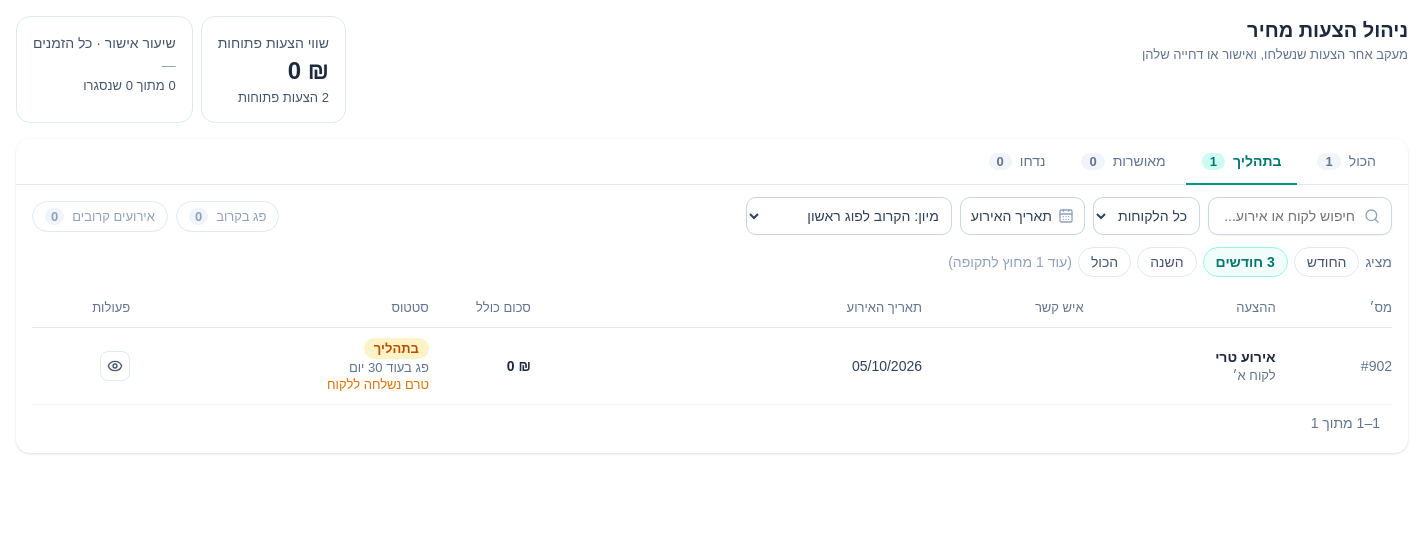
Test: חלון-זמן — ברירת-מחדל (90 יום) מול "הכול" › שורה ישנה מ-90 יום מוסתרת כברירת-מחדל, ו-"הכול" מחזיר אותה
Expected: the row with test id "quote-row-902" is shown, [32, 327, 1392, 404]
Expected: the text with test id "list-window-hidden" shows "1", [1036, 254, 1044, 270]
Click the button with test id "list-window-all": (1105, 262) [1078, 247, 1131, 277]
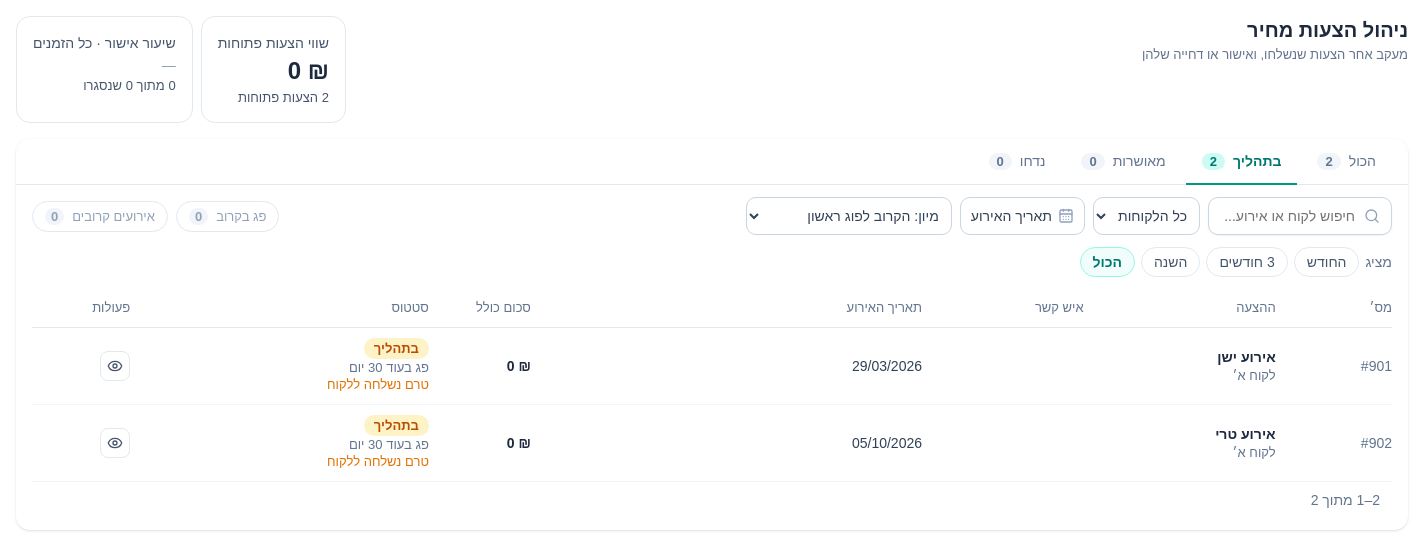
Expected: the row with test id "quote-row-902" is shown, [32, 404, 1392, 481]
Now the row with test id "quote-row-901" is shown, box [32, 327, 1392, 404]
Now the text with test id "list-window-hidden" is gone
